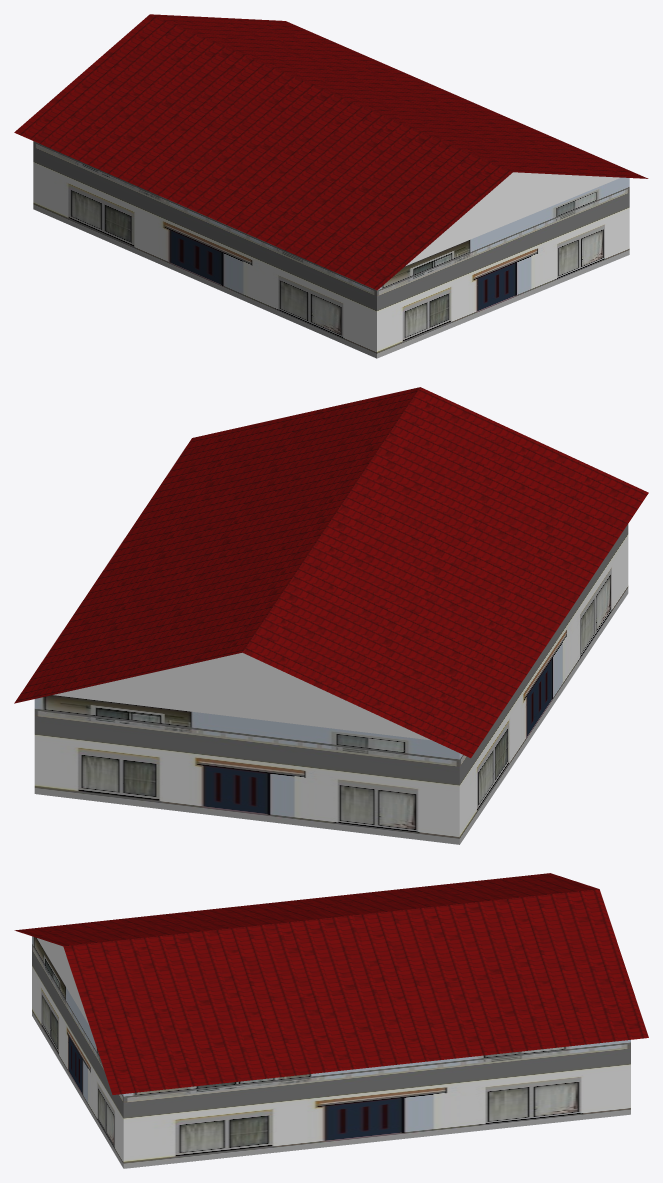
The picture shows the model from 3 angles, top to bottom: view 1: azimuth 30°, elevation 25°; view 2: azimuth 150°, elevation 25°; view 3: azimuth 270°, elevation 25°; orthographic projection. The views are drawn at different scales.
Parts seen in each view (by area): view 1: CityEngineMaterial_17_m, CityEngineMaterial_7_m, CityEngineMaterial_3_m; view 2: CityEngineMaterial_17_m, CityEngineMaterial_7_m, CityEngineMaterial_3_m; view 3: CityEngineMaterial_17_m, CityEngineMaterial_7_m, CityEngineMaterial_3_m.
Boxes of the visible parts, bbox=[...] form: CityEngineMaterial_17_m: bbox=[14, 14, 648, 290]; CityEngineMaterial_7_m: bbox=[33, 141, 629, 358]; CityEngineMaterial_3_m: bbox=[406, 172, 620, 265]; CityEngineMaterial_17_m: bbox=[14, 387, 648, 758]; CityEngineMaterial_7_m: bbox=[34, 524, 628, 844]; CityEngineMaterial_3_m: bbox=[53, 652, 431, 740]; CityEngineMaterial_17_m: bbox=[14, 873, 648, 1094]; CityEngineMaterial_7_m: bbox=[32, 936, 630, 1168]; CityEngineMaterial_3_m: bbox=[37, 938, 89, 1025].
Size of the model in its own units: 35.11 by 10.86 by 42.42.
